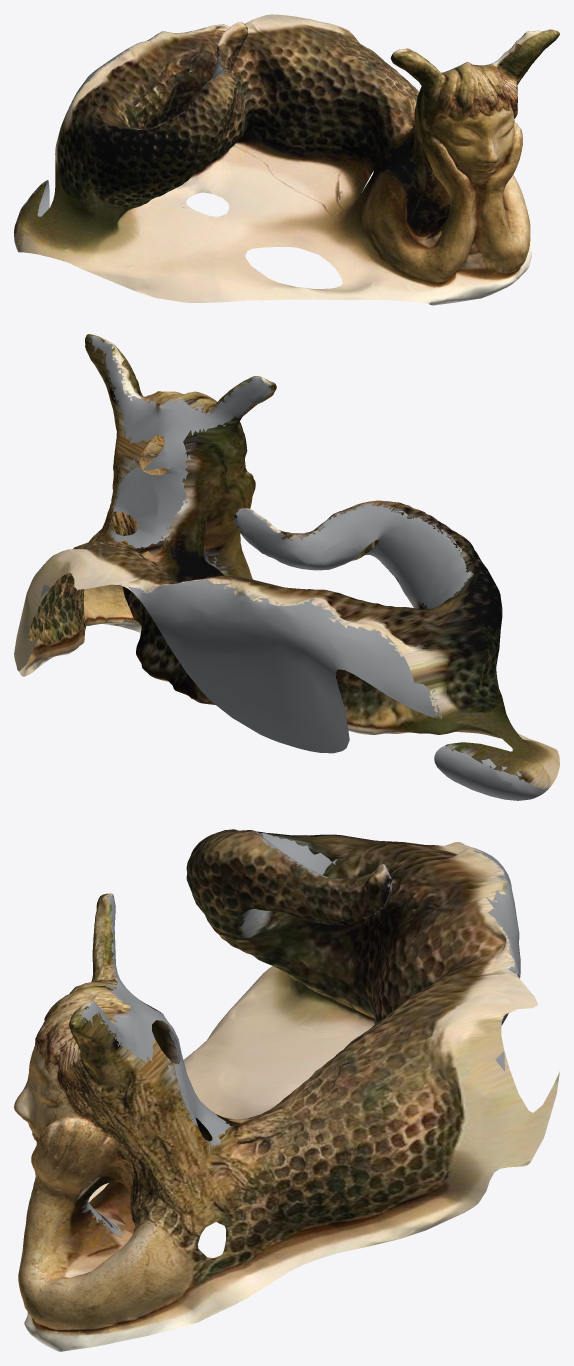
File: wormWoman.glb
The picture shows the model from 3 angles, top to bottom: view 1: azimuth 30°, elevation 25°; view 2: azimuth 150°, elevation 25°; view 3: azimuth 270°, elevation 25°; orthographic projection. The views are drawn at different scales.
Visible parts, largest first — view 1: wormWoman; view 2: wormWoman; view 3: wormWoman.
Part boxes in pixels (<box>): wormWoman: <box>14,14,559,305</box>; wormWoman: <box>14,334,559,800</box>; wormWoman: <box>14,829,559,1351</box>.
Size of the model in its own units: 22.42 by 11.75 by 14.95.
Materials: 1 (1 with a texture image).
